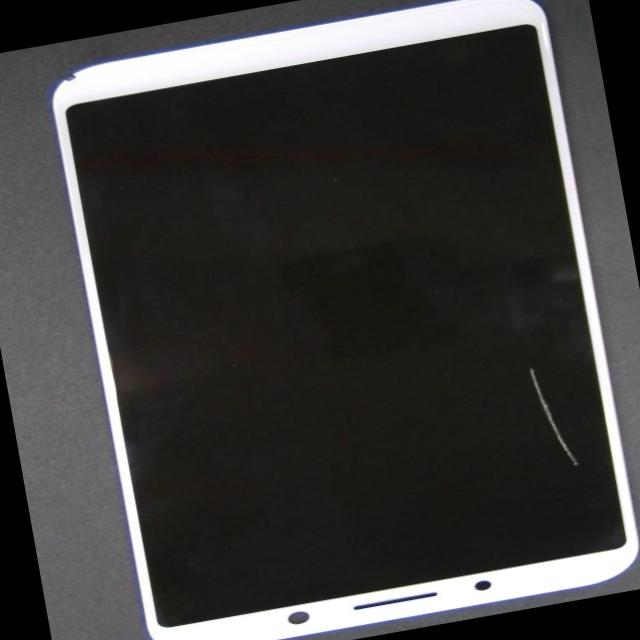scratch: (517, 358, 580, 477)
